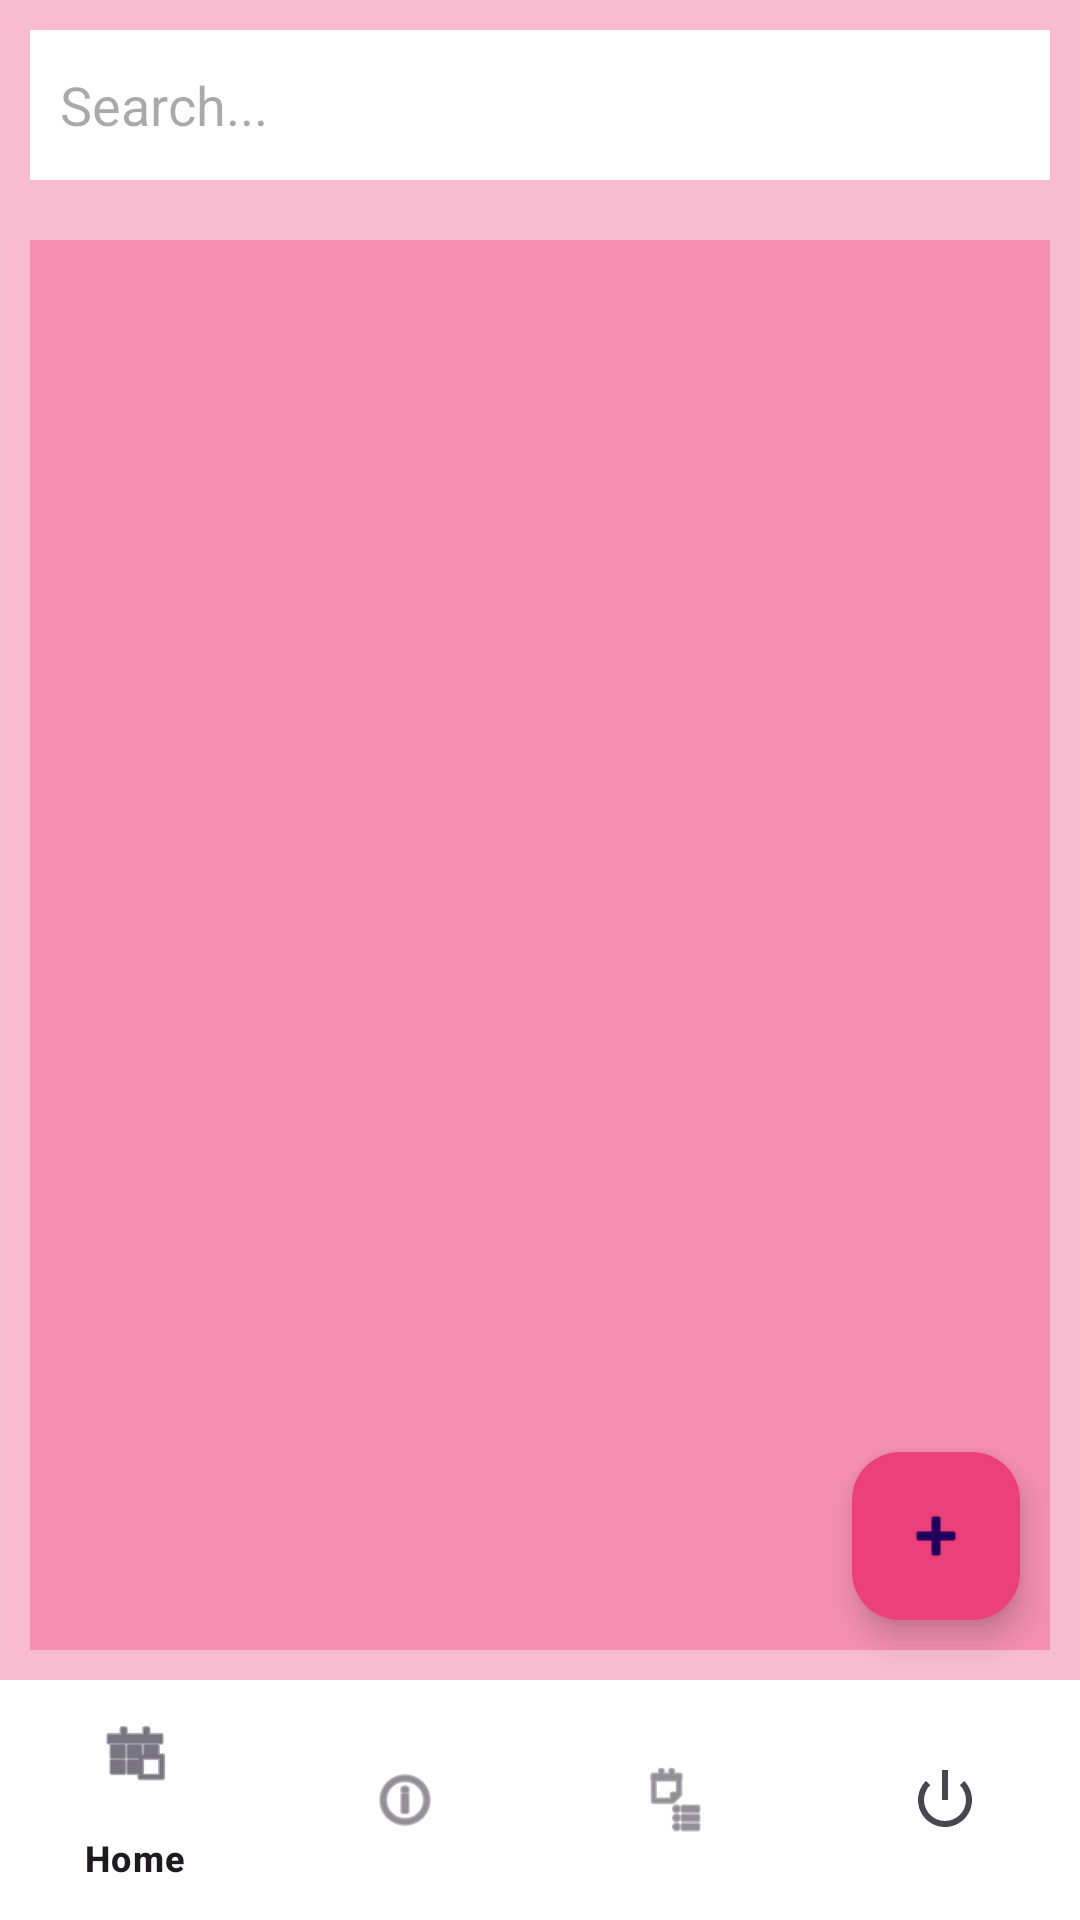

Named icons in this screenshot (1080w x 1920h) and their centers, (x,y):
add: (936,1536)
